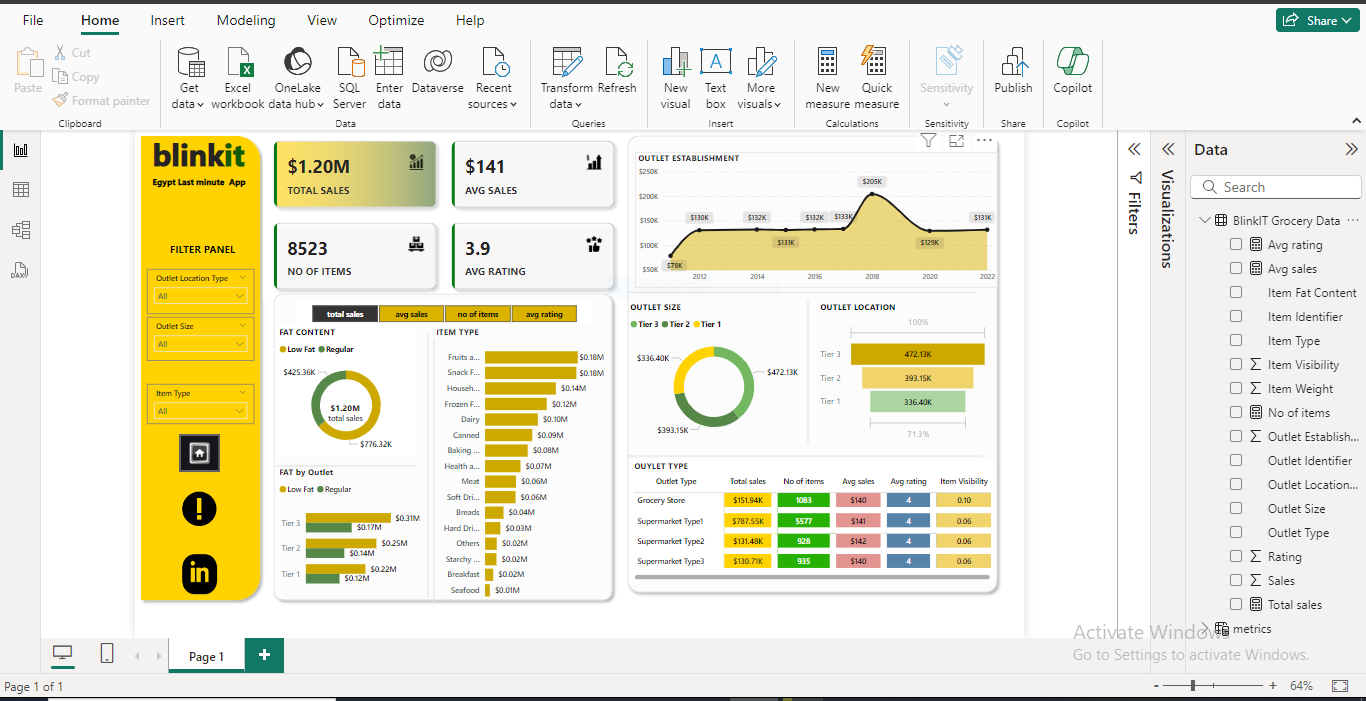

Layout of this report page (visuals, bound fields, positions):
{"tool":"powerbi","page":{"name":"Page 1","canvas":[1400,800],"ordinal":0},"visuals":[{"type":"shape","box":[0,0,206.3,749.6],"z":0},{"type":"textbox","box":[17.3,0,165.4,85],"z":1000},{"type":"textbox","box":[0,67.7,201.6,33.1],"z":2000},{"type":"cardVisual","fields":{"Data":["BlinkIT Grocery Data.total sales","BlinkIT Grocery Data.avg sales","BlinkIT Grocery Data.no of items","BlinkIT Grocery Data.avg rating"]},"box":[201.6,0,570.1,269.3],"z":3000},{"type":"shape","box":[209.4,248.8,551.2,500.8],"z":4000},{"type":"donutChart","title":"FAT CONTENT","fields":{"Y":["BlinkIT Grocery Data.Total sales"],"Category":["BlinkIT Grocery Data.Item Fat Content"]},"box":[222,308.7,220.5,204.7],"z":5000},{"type":"slicer","fields":{"Values":["metrics.metrics"]},"box":[253.5,269.3,466.1,39.4],"z":6000},{"type":"cardVisual","fields":{"Data":["BlinkIT Grocery Data.Total sales"]},"box":[278.7,411,105.5,67.7],"z":7000},{"type":"clusteredBarChart","title":"FAT by Outlet","fields":{"Y":["BlinkIT Grocery Data.Total sales"],"Category":["BlinkIT Grocery Data.Outlet Location Type"],"Series":["BlinkIT Grocery Data.Item Fat Content"]},"box":[222,529.1,231.5,207.9],"z":8000},{"type":"shape","box":[218.9,519.7,223.6,18.9],"z":9000},{"type":"shape","box":[453.5,319.7,15.7,417.3],"z":10000},{"type":"barChart","title":"ITEM TYPE","fields":{"Y":["BlinkIT Grocery Data.Total sales"],"Category":["BlinkIT Grocery Data.Item Type"]},"box":[469.3,308.7,274,440.9],"z":11000},{"type":"shape","box":[766.9,0,600,737],"z":12000},{"type":"lineChart","title":"OUTLET ESTABLISHMENT","fields":{"Category":["BlinkIT Grocery Data.Outlet Establishment Year"],"Y":["BlinkIT Grocery Data.Total sales"]},"box":[787.4,34.6,571.7,214.2],"z":13000},{"type":"donutChart","title":"OUTLET SIZE","fields":{"Y":["BlinkIT Grocery Data.Total sales"],"Category":["BlinkIT Grocery Data.Outlet Location Type"]},"box":[774.8,269.3,274,225.2],"z":14000},{"type":"shape","box":[463.5,329.7,15.7,417.3],"z":15000},{"type":"shape","box":[1052,269.3,15.7,225.2],"z":16000},{"type":"shape","box":[774.8,248.8,550,14],"z":17000},{"type":"funnel","title":"OUTLET LOCATION","fields":{"Y":["Sum(BlinkIT Grocery Data.Sales)"],"Category":["BlinkIT Grocery Data.Outlet Location Type"]},"box":[1074,269.3,274,225],"z":18000},{"type":"shape","box":[774.8,507.1,559.1,12.6],"z":19000},{"type":"pivotTable","title":"OUYLET TYPE","fields":{"Rows":["BlinkIT Grocery Data.Outlet Type"],"Values":["BlinkIT Grocery Data.Total sales","BlinkIT Grocery Data.No of items","BlinkIT Grocery Data.Avg sales","BlinkIT Grocery Data.Avg rating","Avg(BlinkIT Grocery Data.Item Visibility)"]},"box":[781.1,519.7,571.7,193.7],"z":20000},{"type":"slicer","fields":{"Values":["BlinkIT Grocery Data.Outlet Location Type"]},"box":[18.9,218.9,168.5,70.9],"z":21000},{"type":"slicer","fields":{"Values":["BlinkIT Grocery Data.Outlet Size"]},"box":[18.9,294.5,168.5,69.3],"z":22000},{"type":"slicer","fields":{"Values":["BlinkIT Grocery Data.Item Type"]},"box":[18.9,400,168.5,63],"z":23000},{"type":"textbox","box":[29.9,171.7,152.8,34.6],"z":24000},{"type":"image","box":[69.2,663.6,65.4,72.9],"z":25000},{"type":"actionButton","box":[69.3,478.7,64.6,60],"z":26000},{"type":"image","box":[69.2,560.7,64,72.9],"z":27000}]}

Visuals, with their boxes on the page's 1400x800 design canvas (x1, y1, x2, y2). These are canvas units, not pixel positions in the 1366x701 screenshot, which may show the page scaled, cropped or inside an application window:
shape: left=0, top=0, right=206, bottom=750
textbox: left=17, top=0, right=183, bottom=85
textbox: left=0, top=68, right=202, bottom=101
cardVisual - BlinkIT Grocery Data.total sales x BlinkIT Grocery Data.avg sales: left=202, top=0, right=772, bottom=269
shape: left=209, top=249, right=761, bottom=750
"FAT CONTENT" donutChart: left=222, top=309, right=442, bottom=513
slicer - metrics.metrics: left=254, top=269, right=720, bottom=309
cardVisual - BlinkIT Grocery Data.Total sales: left=279, top=411, right=384, bottom=479
"FAT by Outlet" clusteredBarChart: left=222, top=529, right=454, bottom=737
shape: left=219, top=520, right=442, bottom=539
shape: left=454, top=320, right=469, bottom=737
"ITEM TYPE" barChart: left=469, top=309, right=743, bottom=750
shape: left=767, top=0, right=1367, bottom=737
"OUTLET ESTABLISHMENT" lineChart: left=787, top=35, right=1359, bottom=249
"OUTLET SIZE" donutChart: left=775, top=269, right=1049, bottom=494
shape: left=464, top=330, right=479, bottom=747
shape: left=1052, top=269, right=1068, bottom=494
shape: left=775, top=249, right=1325, bottom=263
"OUTLET LOCATION" funnel: left=1074, top=269, right=1348, bottom=494
shape: left=775, top=507, right=1334, bottom=520
"OUYLET TYPE" pivotTable: left=781, top=520, right=1353, bottom=713
slicer - BlinkIT Grocery Data.Outlet Location Type: left=19, top=219, right=187, bottom=290
slicer - BlinkIT Grocery Data.Outlet Size: left=19, top=294, right=187, bottom=364
slicer - BlinkIT Grocery Data.Item Type: left=19, top=400, right=187, bottom=463
textbox: left=30, top=172, right=183, bottom=206
image: left=69, top=664, right=135, bottom=736
actionButton: left=69, top=479, right=134, bottom=539
image: left=69, top=561, right=133, bottom=634
